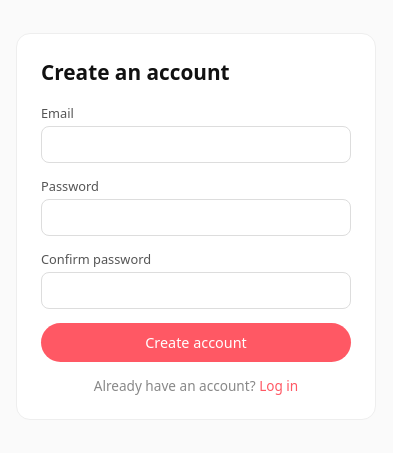
Test case: Register › shows the server-provided error and stays on the page when registration fails
This screenshot has width=393, height=453.
Type "user@example.com" into the field labelled "Email" at [196, 144], box [41,126,351,162]
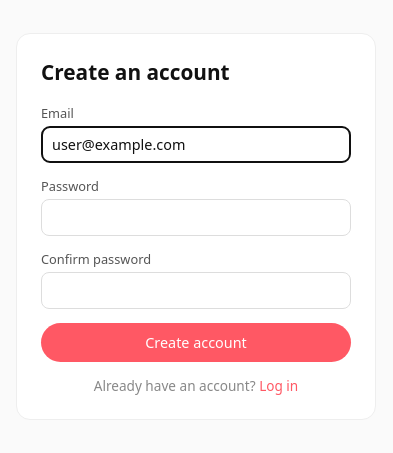
Type "password123" into the password field labelled "Password" at [196, 217], box [41,198,351,236]
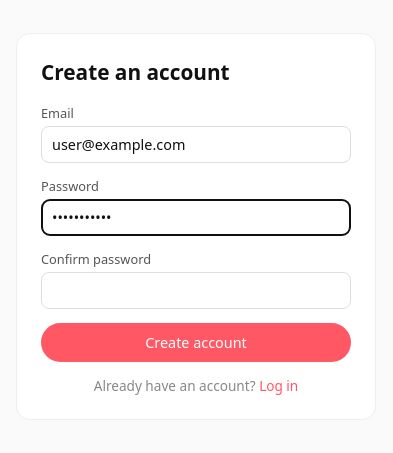
Type "password123" into the password field labelled "Confirm password" at [196, 290], box [41,272,351,308]
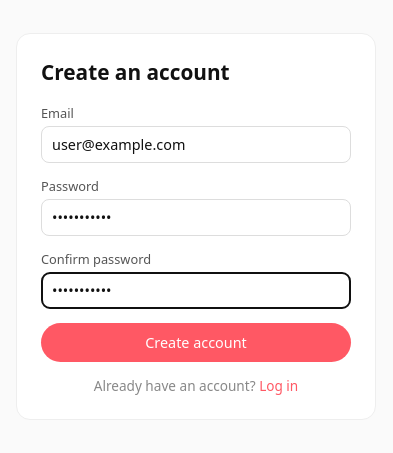
Click the button "Create account" at [196, 342], box [41,322,351,362]
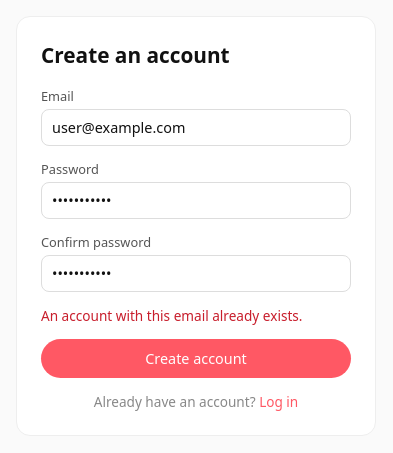
expect the message shows "already exists": met, box [41,306,302,325]
